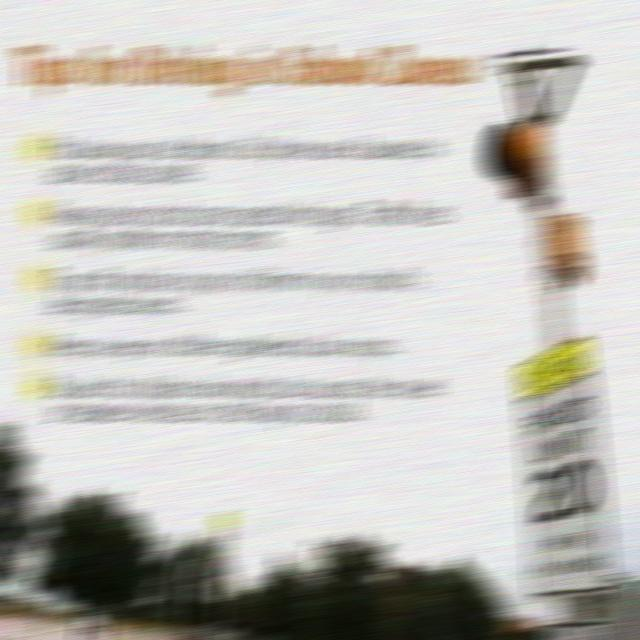speedLimit20: (511, 377, 610, 538)
